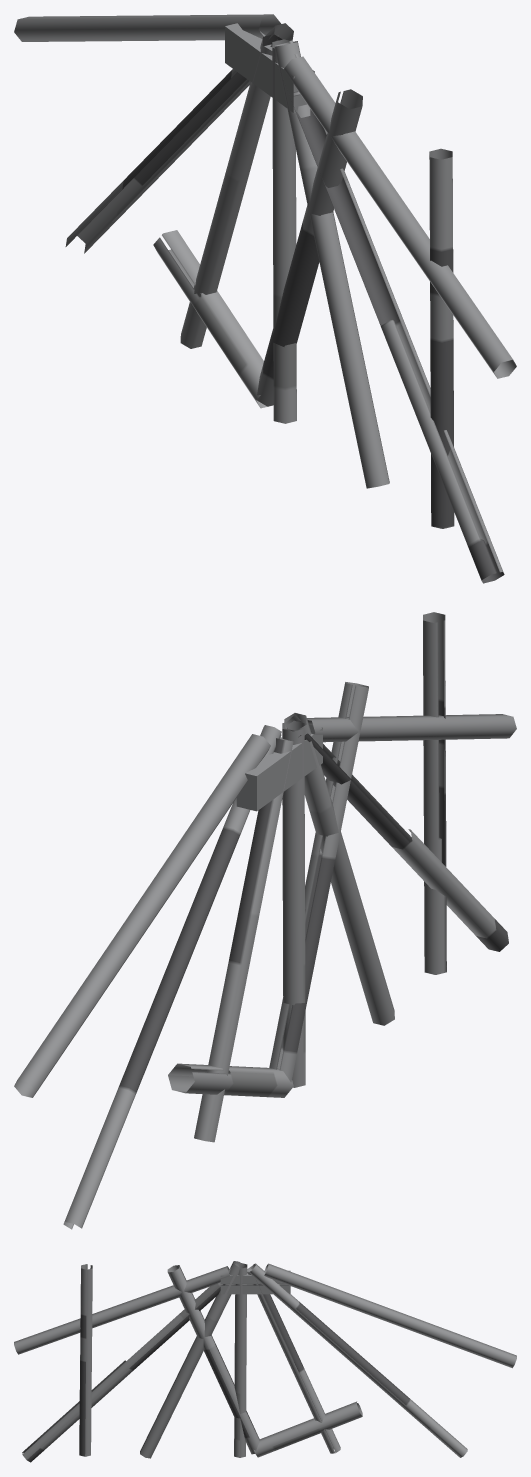
3 views of the same model, one above another, from view 1: azimuth 30°, elevation 25°; view 2: azimuth 150°, elevation 25°; view 3: azimuth 270°, elevation 25° (orthographic). The views are drawn at different scales.
Bounding box in the file's own units: 0.1032 × 1.07 × 2.44.
